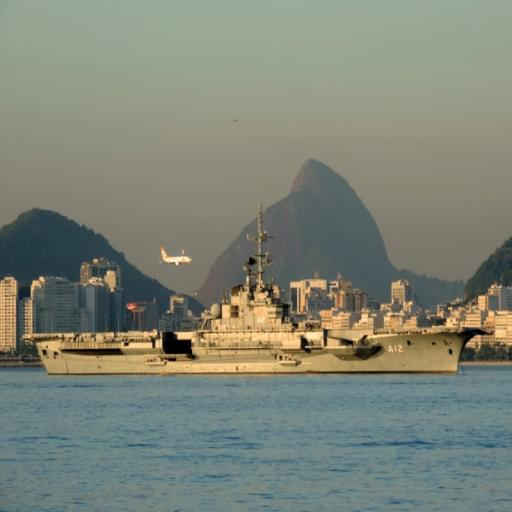Portanaves: (24, 204, 498, 381)
